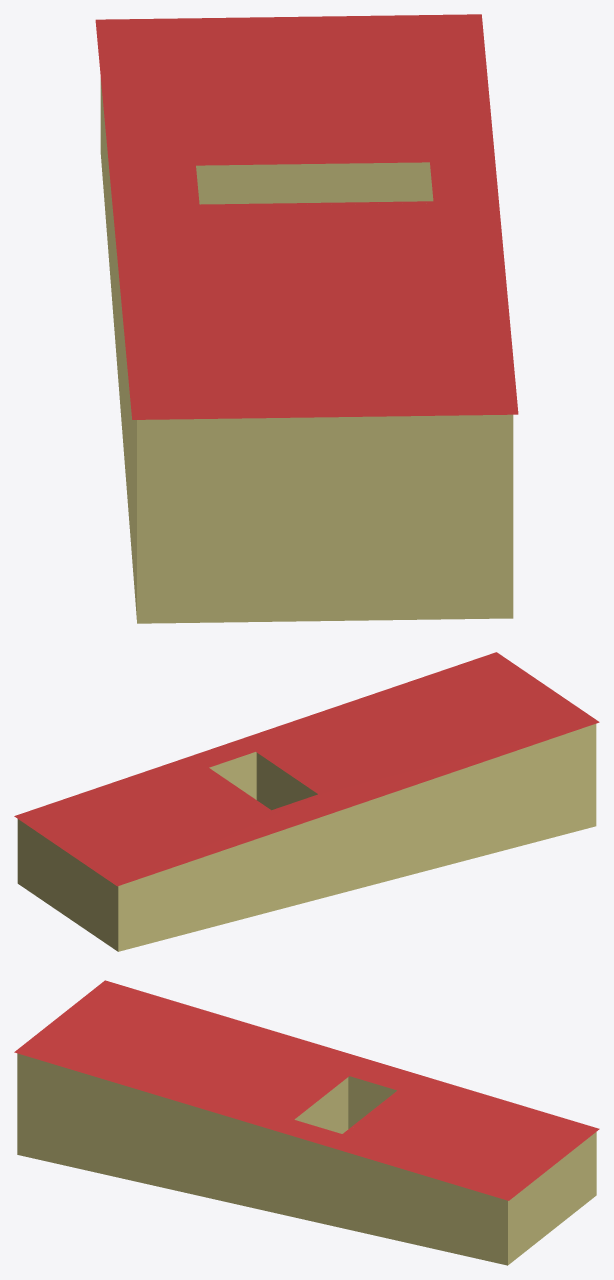
3 renders of one model, top to bottom at view 1: azimuth 30°, elevation 25°; view 2: azimuth 150°, elevation 25°; view 3: azimuth 270°, elevation 25°, orthographic. The views are drawn at different scales.
Bounding box in the file's own units: 42.27 × 56.95 × 11.04.
